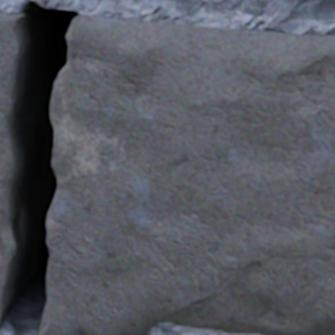broken_brick: (37, 15, 334, 334), (0, 13, 24, 324)
crack: (0, 1, 80, 333)
